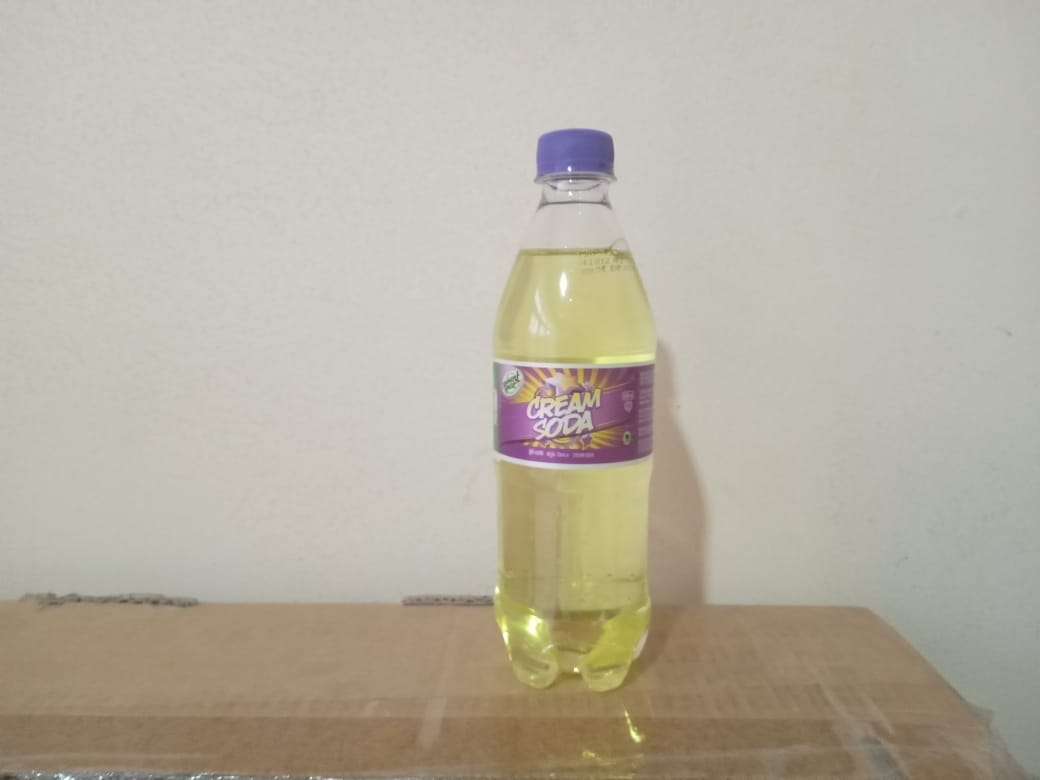S: (485, 126, 667, 706)
